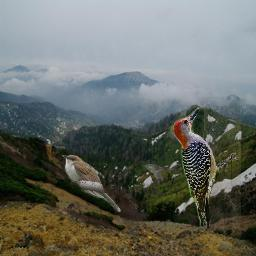Cuckoo: (62, 155, 121, 212)
Woodpecker: (169, 106, 241, 229)
